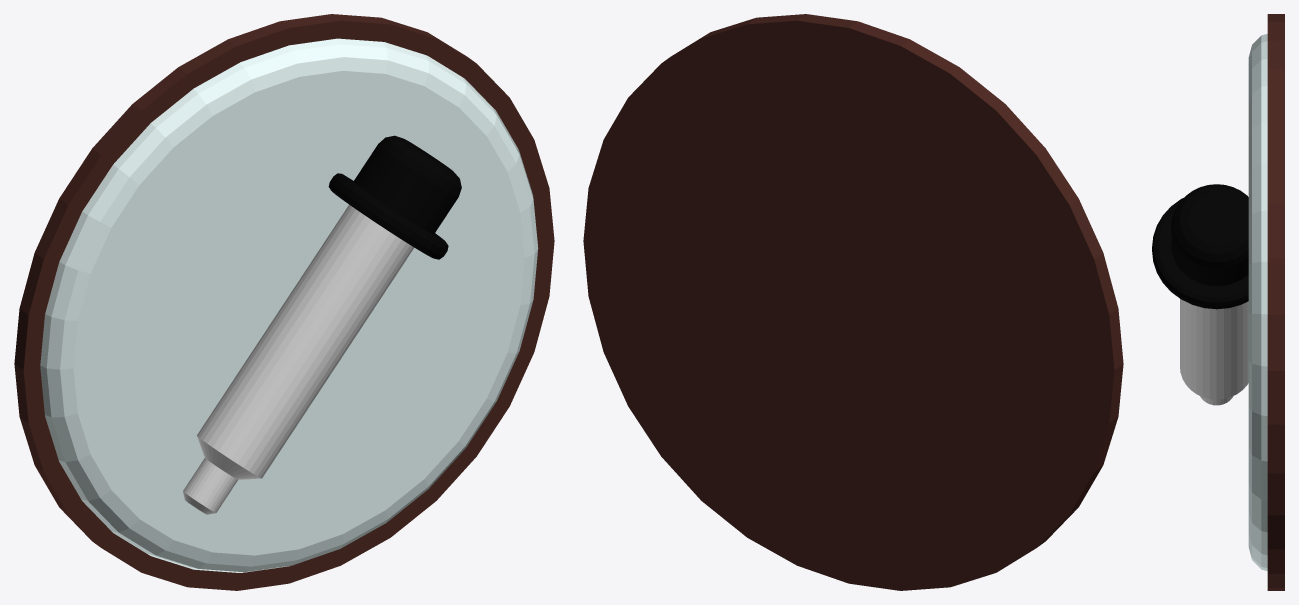
Rendered from ColorPickerButtonPushed.glb.
The picture shows the model from 3 angles, left to right: view 1: azimuth 30°, elevation 25°; view 2: azimuth 150°, elevation 25°; view 3: azimuth 270°, elevation 25°; orthographic projection. The views are drawn at different scales.
Visible parts, largest first — view 1: Cylinder.001, Cylinder.004; view 2: Cylinder.001; view 3: Cylinder.001, Cylinder.004.
Part boxes in pixels (x1,y1,x2,y2): Cylinder.001: [14, 14, 554, 590]; Cylinder.004: [183, 135, 461, 514]; Cylinder.001: [583, 14, 1123, 590]; Cylinder.001: [1248, 14, 1284, 590]; Cylinder.004: [1152, 184, 1248, 405].
Size of the model in its own units: 1 by 1 by 0.2303.
